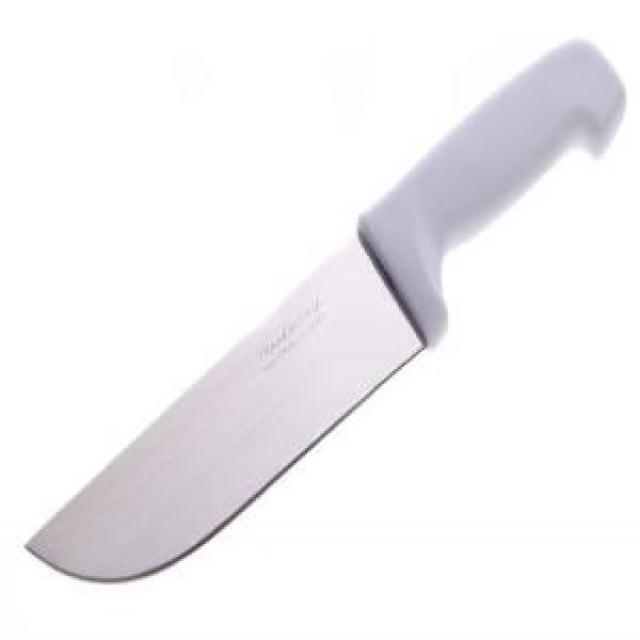knife: (22, 30, 630, 633)
